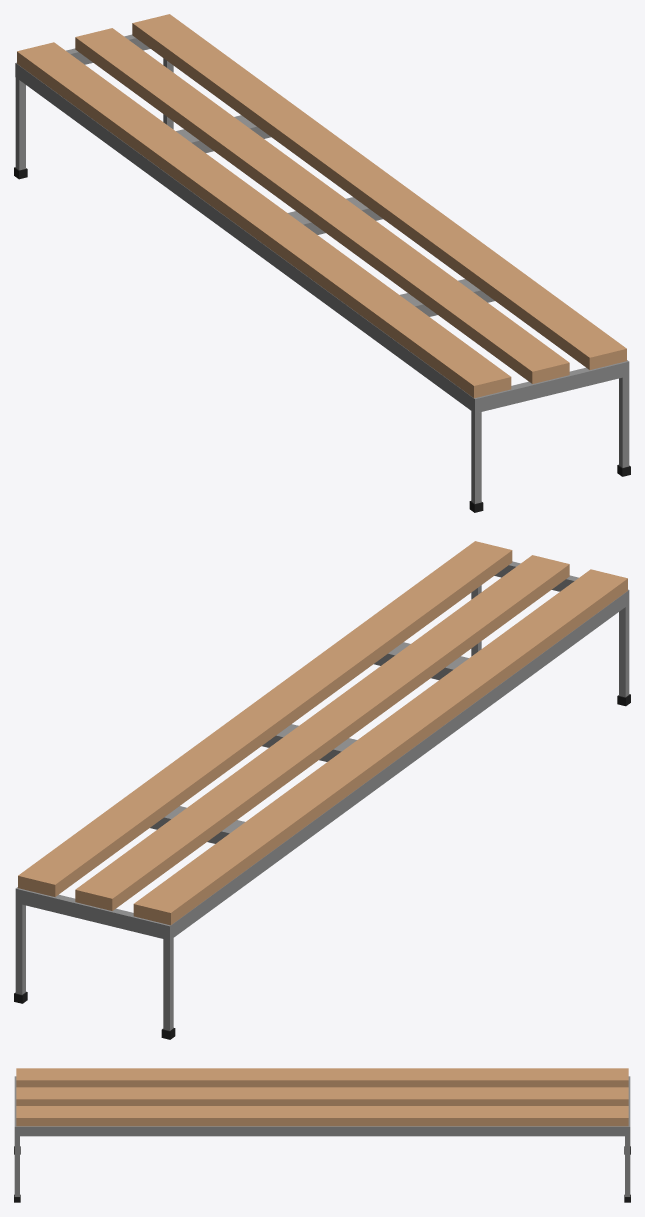
File: Bench.fbx
3 views of the same model, one above another, from view 1: azimuth 30°, elevation 25°; view 2: azimuth 150°, elevation 25°; view 3: azimuth 270°, elevation 25° (orthographic). The views are drawn at different scales.
Parts seen in each view (by area): view 1: Cube.005, Cube.007, Cube.006, Cube.008, Cube.015, Cube.014, Cube.012; view 2: Cube.005, Cube.006, Cube.007, Cube.008, Cube.012, Cube.013, Cube.015; view 3: Cube.007, Cube.006, Cube.005, Cube.008, Cube.013, Cube.014.
Boxes of the visible parts, x1=… form: Cube.005: x1=75, y1=28, x2=569, y2=383; Cube.007: x1=132, y1=14, x2=626, y2=369; Cube.006: x1=17, y1=42, x2=511, y2=398; Cube.008: x1=15, y1=34, x2=629, y2=413; Cube.015: x1=471, y1=411, x2=481, y2=503; Cube.014: x1=619, y1=376, x2=629, y2=467; Cube.012: x1=15, y1=77, x2=25, y2=170; Cube.005: x1=75, y1=555, x2=569, y2=910; Cube.006: x1=133, y1=569, x2=627, y2=925; Cube.007: x1=18, y1=541, x2=512, y2=896; Cube.008: x1=15, y1=561, x2=629, y2=940; Cube.012: x1=163, y1=938, x2=173, y2=1030; Cube.013: x1=15, y1=903, x2=25, y2=994; Cube.015: x1=619, y1=604, x2=629, y2=697; Cube.007: x1=16, y1=1106, x2=628, y2=1126; Cube.006: x1=16, y1=1068, x2=628, y2=1087; Cube.005: x1=16, y1=1087, x2=628, y2=1105; Cube.008: x1=14, y1=1076, x2=630, y2=1136; Cube.013: x1=625, y1=1136, x2=630, y2=1196; Cube.014: x1=14, y1=1136, x2=19, y2=1196.
Bounding box in the file's own units: 807 × 618 × 4117.
